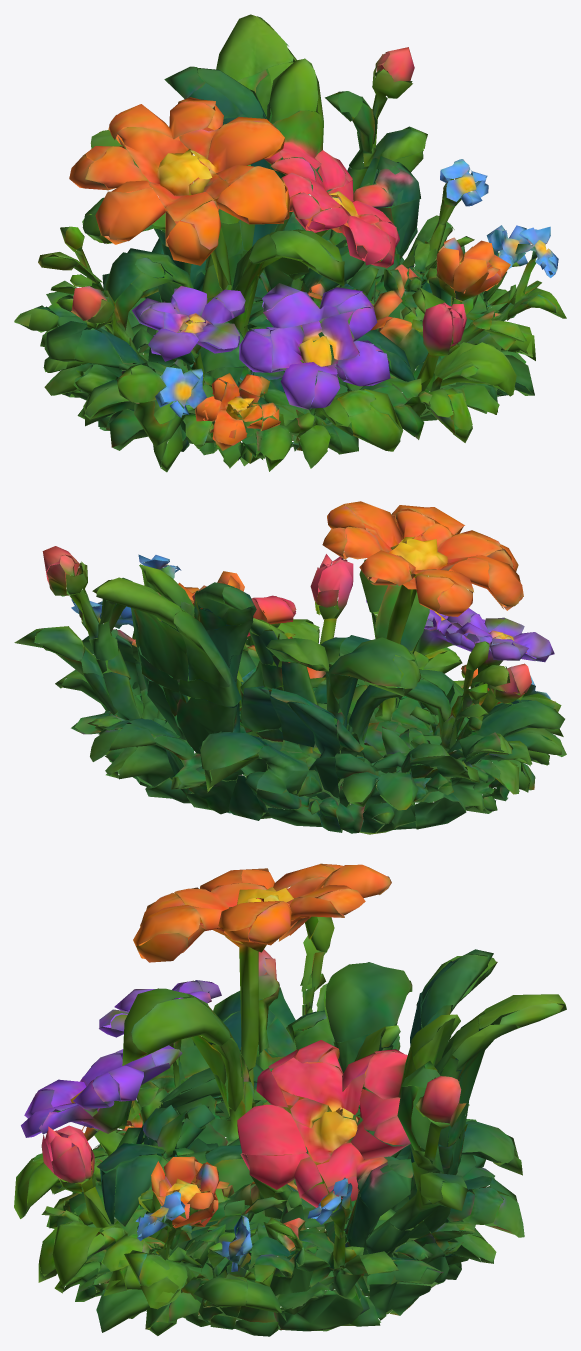
File: garden-blooms.glb
3 views of the same model, one above another, from view 1: azimuth 30°, elevation 25°; view 2: azimuth 150°, elevation 25°; view 3: azimuth 270°, elevation 25° (orthographic). The views are drawn at different scales.
Visible parts, largest first — view 1: mesh_node; view 2: mesh_node; view 3: mesh_node.
Boxes of the visible parts, x1,y1,x2,y2 form: mesh_node: [14, 14, 566, 472]; mesh_node: [14, 501, 566, 834]; mesh_node: [14, 863, 566, 1336].
Size of the model in its own units: 1.91 by 1.06 by 1.67.
1 material, 1 textured.
